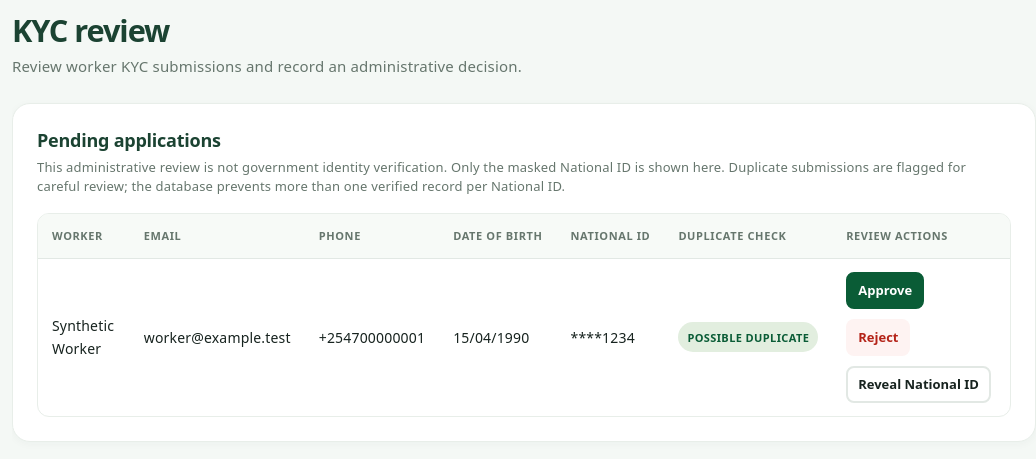
Admin KYC review › approves a pending application and refreshes the list
Click the button "Approve" at point(885, 290), box [846, 272, 924, 309]
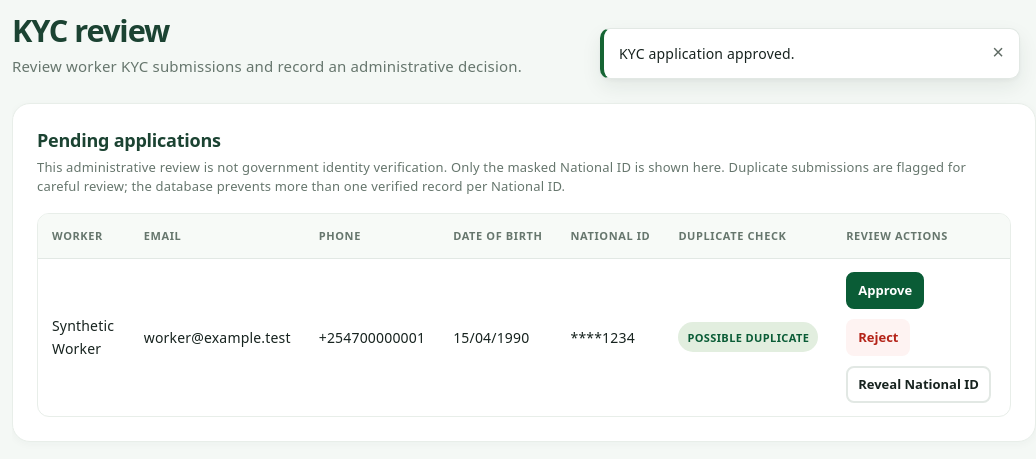
Now the message shows "KYC application approved.", box [619, 44, 795, 63]
